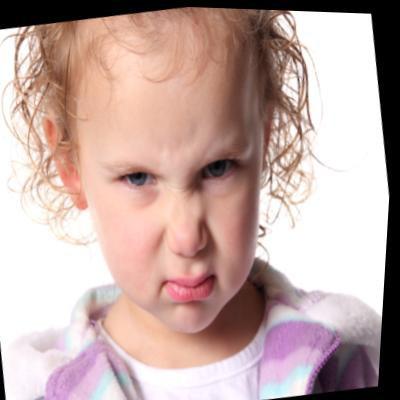angry: (23, 1, 318, 349)
